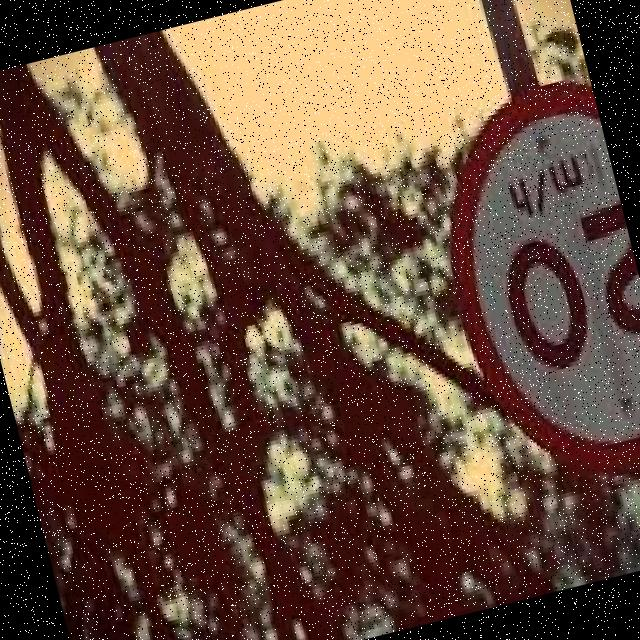speed_limit_20: (413, 73, 640, 506)
